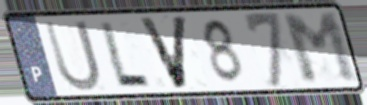7: (241, 9, 287, 91)
8: (201, 17, 246, 86)
L: (97, 19, 153, 89)
M: (279, 10, 362, 87)
U: (41, 18, 104, 94)
V: (136, 14, 191, 92)
